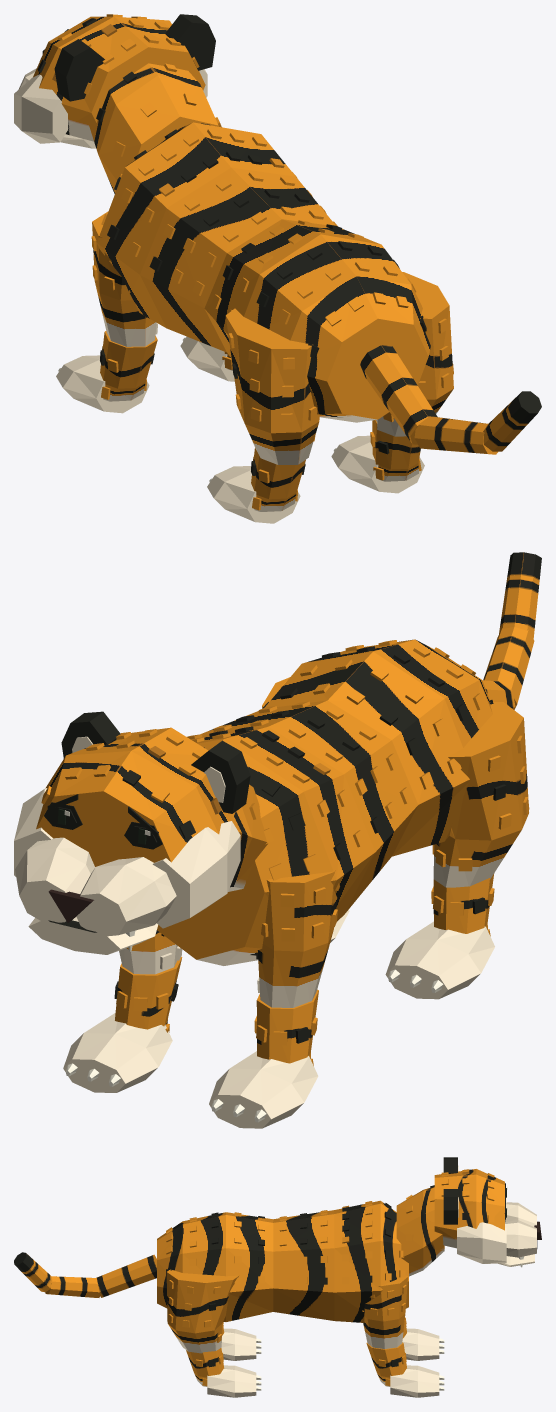
Rendered from Tiger.fbx.
3 views of the same model, one above another, from view 1: azimuth 30°, elevation 25°; view 2: azimuth 150°, elevation 25°; view 3: azimuth 270°, elevation 25° (orthographic). The views are drawn at different scales.
Visible parts, largest first — view 1: Import3D_Core, Import3D_Head, Import3D_LegBL, Import3D_Neck, Import3D_KneeFL, Import3D_KneeBL, Import3D_KneeBR, Import3D_LegBR, Import3D_LegFL, Import3D_Tail, Import3D_Tail1, Import3D_EarL (+3 smaller); view 2: Import3D_Core, Import3D_Head, Import3D_LegBL, Import3D_KneeFL, Import3D_KneeFR, Import3D_LegFL, Import3D_KneeBL, Import3D_Tail2, Import3D_EarL, Import3D_Jaw, Import3D_Tail1, Import3D_Neck (+2 smaller); view 3: Import3D_Core, Import3D_Head, Import3D_LegBR, Import3D_Neck, Import3D_LegFR, Import3D_KneeFR, Import3D_KneeBR, Import3D_Tail, Import3D_KneeFL, Import3D_KneeBL, Import3D_Tail1, Import3D_Tail2 (+1 smaller).
Part boxes in pixels (x1,y1,x2,y2): Import3D_Core: (97, 122, 430, 422); Import3D_Head: (14, 14, 207, 143); Import3D_LegBL: (225, 308, 319, 464); Import3D_Neck: (88, 63, 221, 193); Import3D_KneeFL: (56, 331, 157, 413); Import3D_KneeBL: (207, 448, 305, 523); Import3D_KneeBR: (331, 420, 424, 493); Import3D_LegBR: (372, 272, 453, 436); Import3D_LegFL: (91, 211, 157, 346); Import3D_Tail: (360, 345, 437, 444); Import3D_Tail1: (414, 416, 497, 454); Import3D_EarL: (54, 39, 104, 101); Import3D_Core: (157, 639, 493, 965); Import3D_Head: (14, 727, 240, 951); Import3D_LegBL: (432, 702, 529, 887); Import3D_KneeFL: (209, 989, 318, 1128); Import3D_KneeFR: (63, 956, 182, 1092); Import3D_LegFL: (256, 870, 339, 1007); Import3D_KneeBL: (385, 873, 494, 999); Import3D_Tail2: (499, 552, 541, 638); Import3D_EarL: (191, 740, 250, 813); Import3D_Jaw: (28, 917, 157, 954); Import3D_Tail1: (483, 626, 534, 709); Import3D_Neck: (228, 784, 267, 891); Import3D_Core: (157, 1200, 408, 1322); Import3D_Head: (434, 1169, 541, 1267); Import3D_LegBR: (166, 1269, 238, 1353); Import3D_Neck: (396, 1185, 444, 1276); Import3D_LegFR: (362, 1275, 407, 1348); Import3D_KneeFR: (366, 1342, 444, 1397); Import3D_KneeBR: (186, 1348, 261, 1397); Import3D_Tail: (96, 1254, 156, 1297); Import3D_KneeFL: (402, 1317, 444, 1360); Import3D_KneeBL: (221, 1322, 261, 1360); Import3D_Tail1: (45, 1276, 99, 1297); Import3D_Tail2: (14, 1252, 52, 1292).
Bounding box in the file's own units: 135 × 211 × 501.
1 material, 1 textured.
